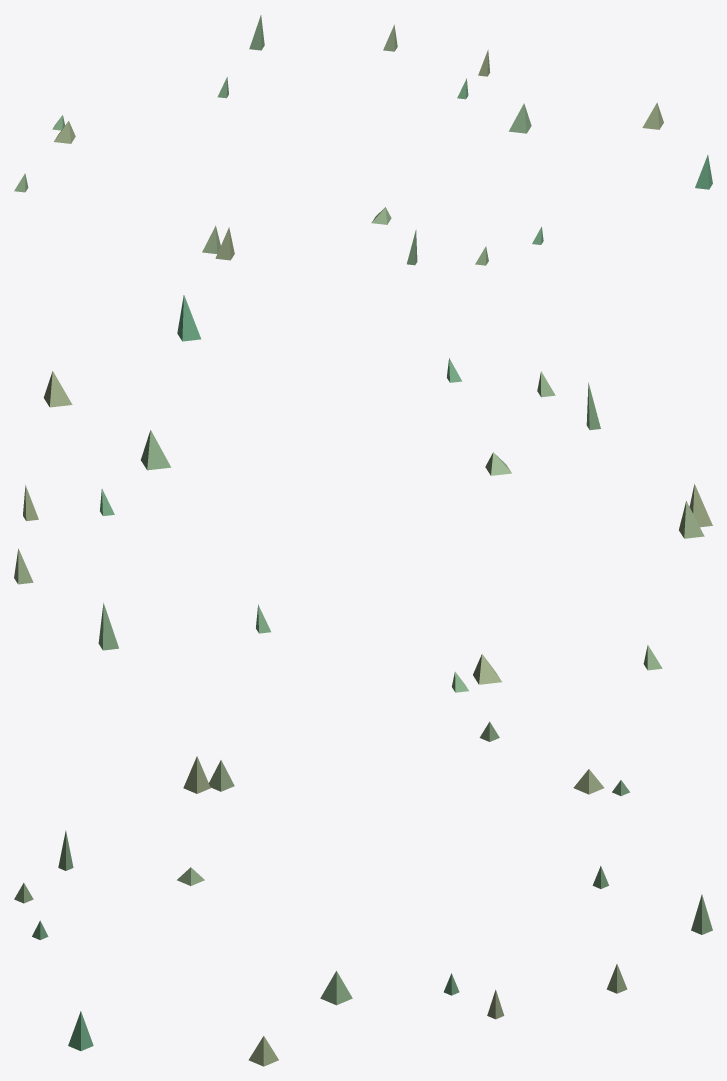
The model's file is campo_brotos.fbx.
3 views of the same model, one above another, from view 1: azimuth 30°, elevation 25°; view 2: azimuth 150°, elevation 25°; view 3: azimuth 270°, elevation 25° (orthographic). The views are drawn at different scales.
Parts seen in each view (by area): view 1: campo_brotos; view 2: campo_brotos; view 3: campo_brotos.
Boxes of the visible parts, x1=… form: campo_brotos: x1=14, y1=15, x2=712, y2=265; campo_brotos: x1=14, y1=295, x2=712, y2=692; campo_brotos: x1=14, y1=721, x2=712, y2=1066.
Bounding box in the file's own units: 13.6 × 0.7717 × 12.06.
